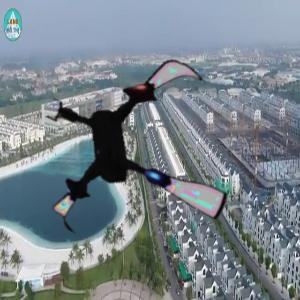drone: (35, 49, 247, 261)
